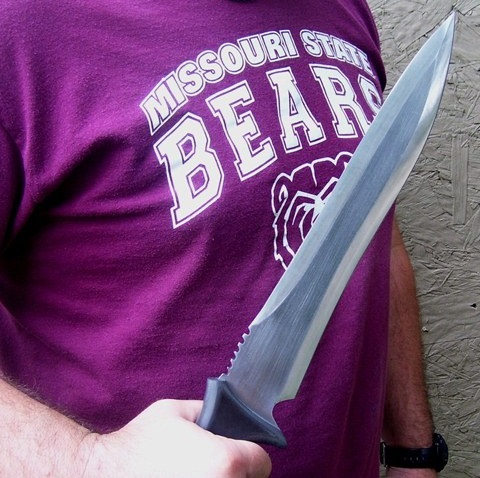knife: (157, 6, 465, 478)
